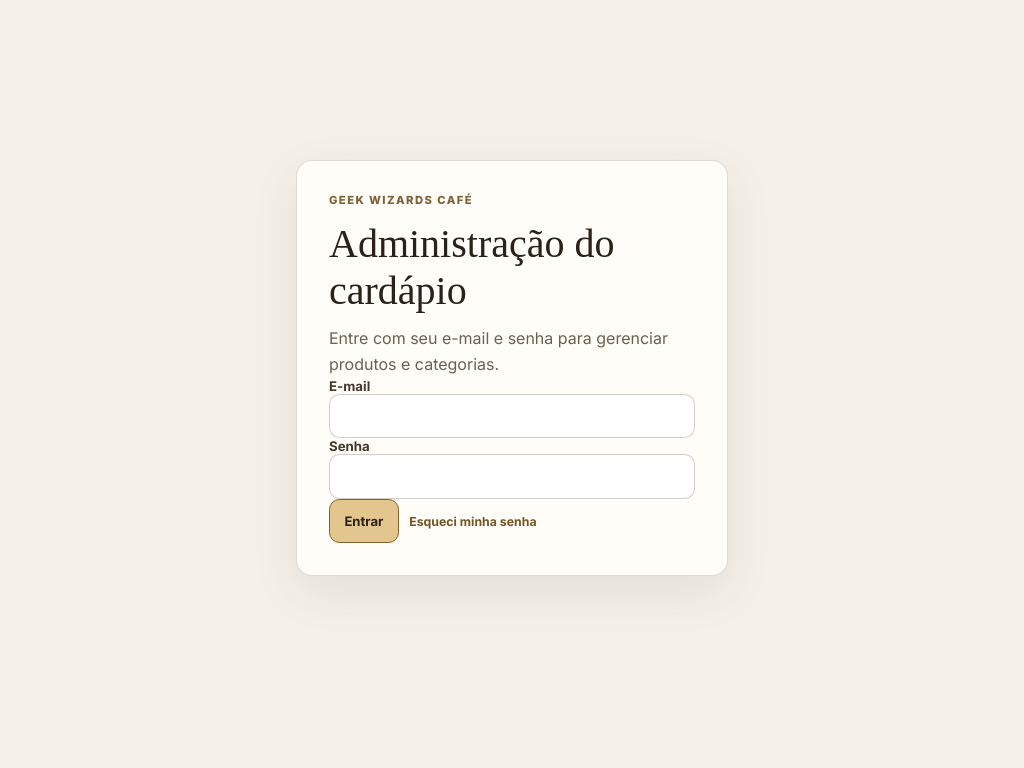
Scenario: AdminCatalog › salva uma edição pelo PATCH existente e fecha o modal
Type "owner@example.com" into the field labelled "E-mail" at coordinates (512, 416), box [329,394,695,438]
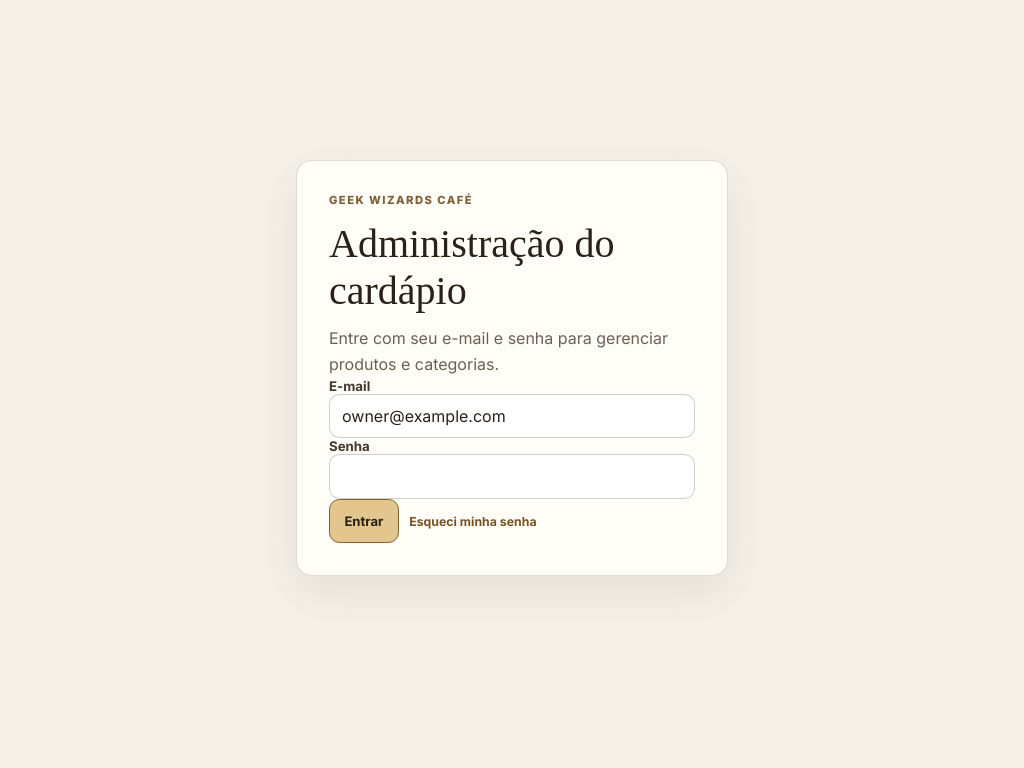
Type "senha-de-teste" into the password field labelled "Senha" at coordinates (512, 477), box [329,454,695,499]
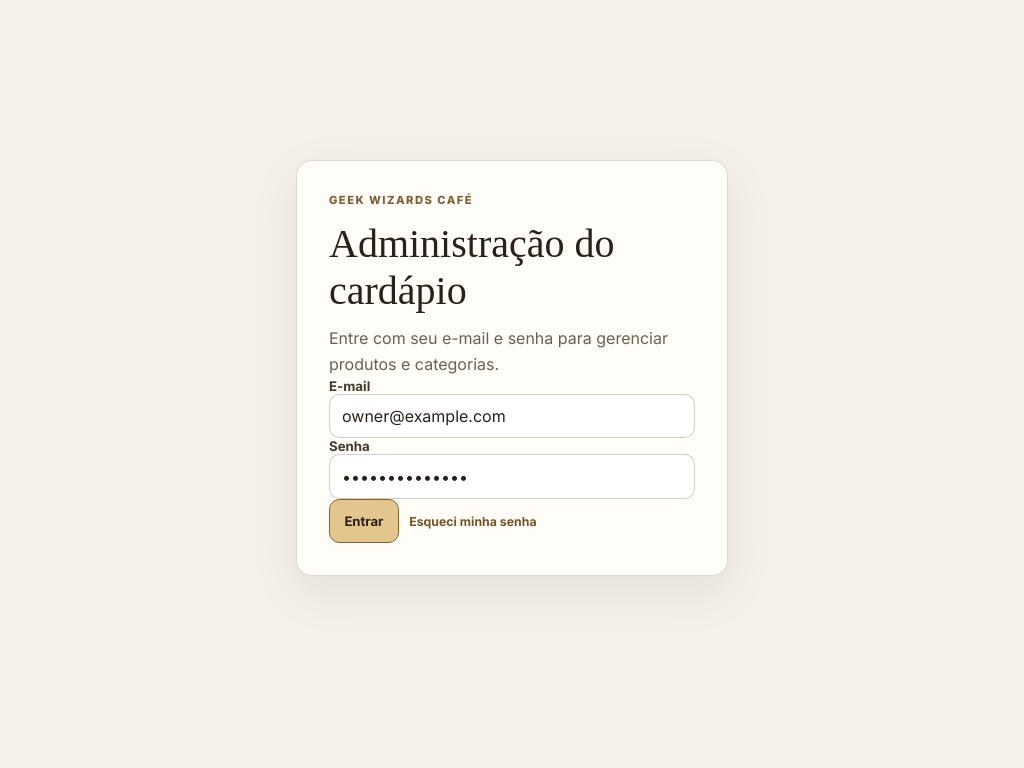
Click the button "Entrar" at coordinates (364, 521), box [329,499,399,543]
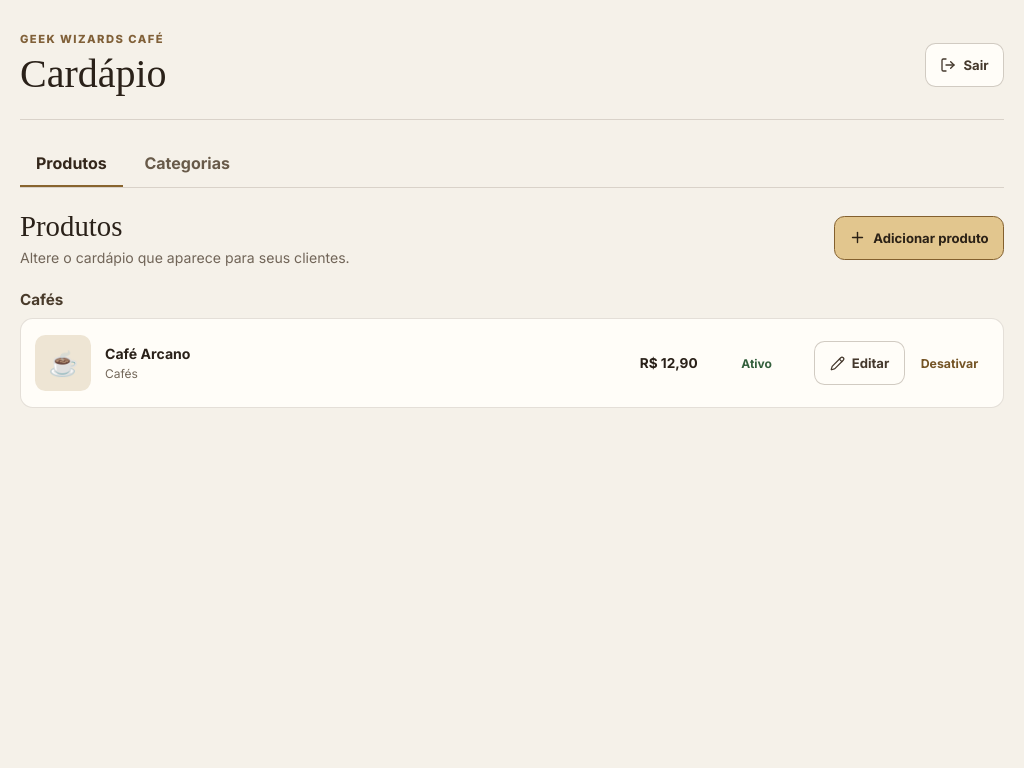
Expected: the heading "Produtos" is shown, [20,210,122,242]
Click the button "Editar" at coordinates (859, 363), box [814,341,905,385]
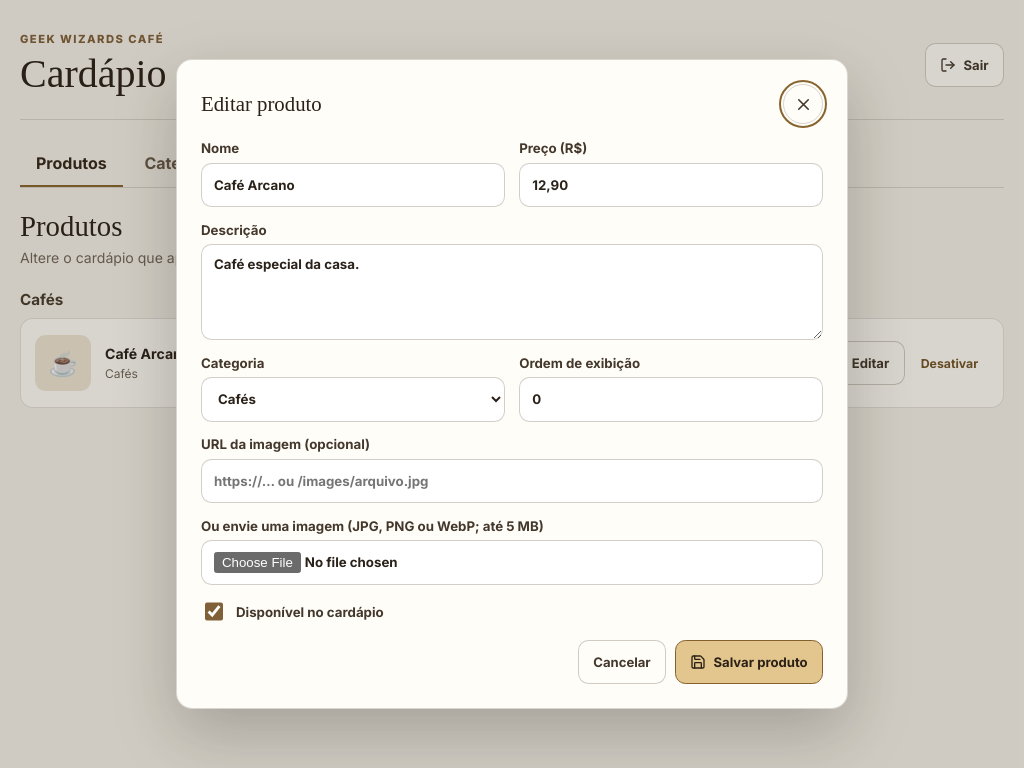
Expected: the dialog is shown, [176,59,848,709]
Replace the text in the field labelled "Nome" with "Café atualizado" at coordinates (353, 185), box [201,163,505,207]
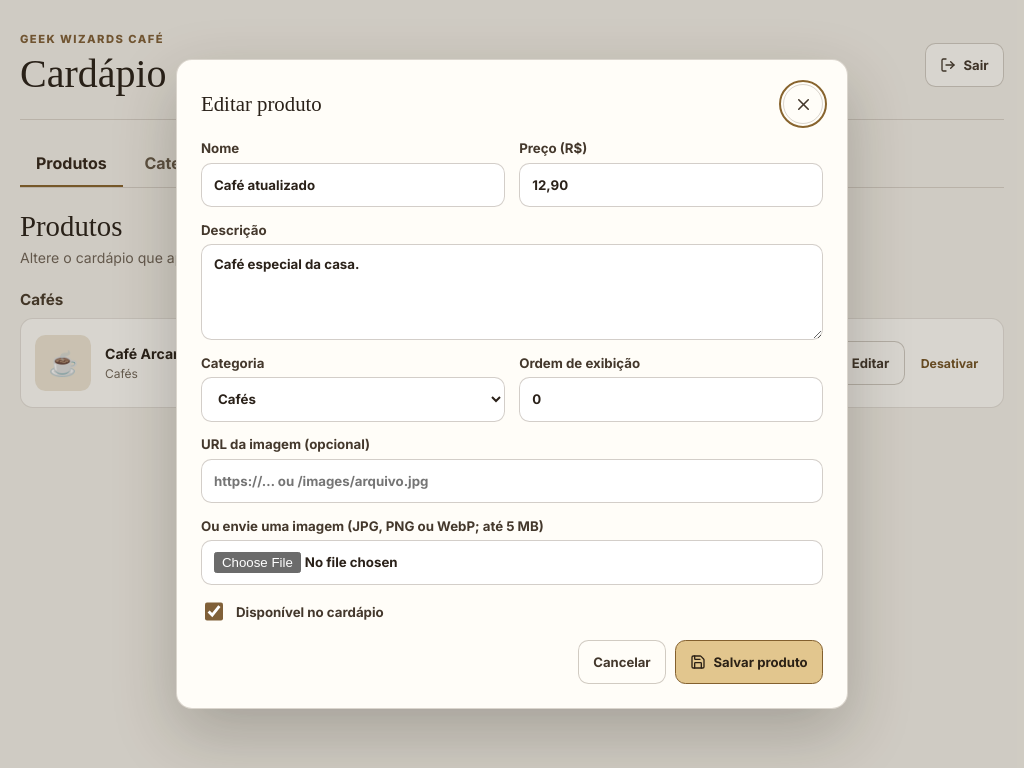
Click the button "Salvar produto" at coordinates (749, 662), box [675,640,823,684]
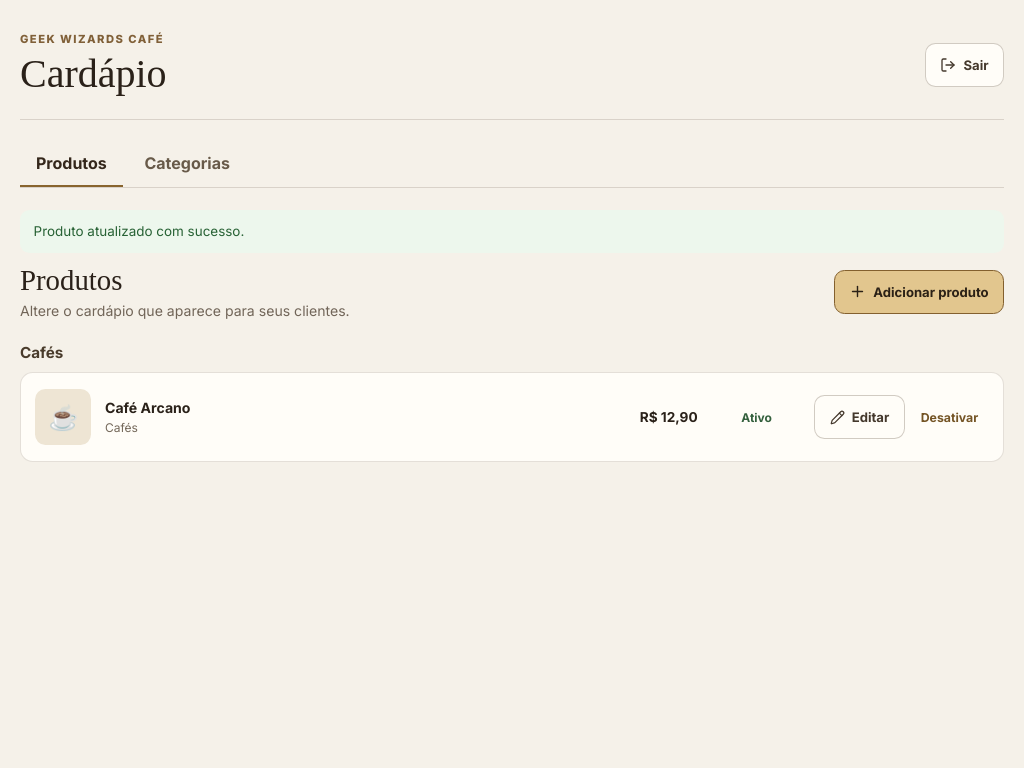
Expected: the dialog is gone
